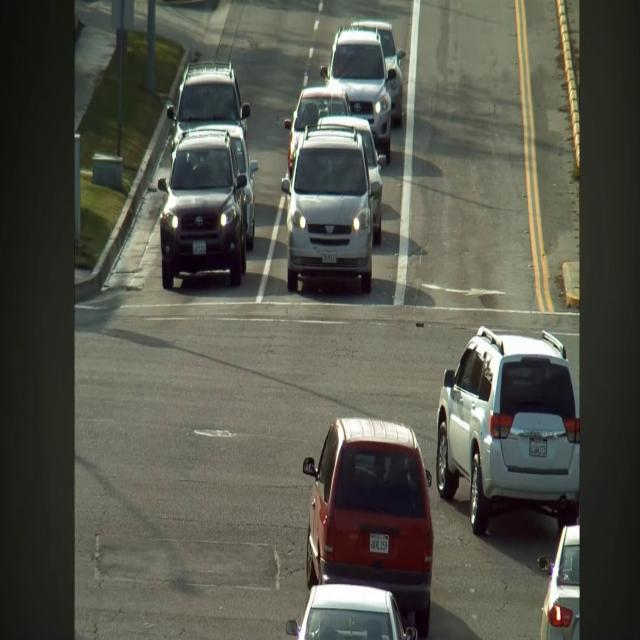car: (436, 327, 579, 535), (303, 418, 433, 637), (281, 127, 372, 294), (158, 129, 247, 289), (320, 27, 397, 164), (318, 116, 385, 245), (167, 61, 250, 149), (286, 584, 417, 639), (207, 125, 258, 250), (284, 87, 350, 176), (352, 20, 405, 127), (538, 525, 579, 639)
